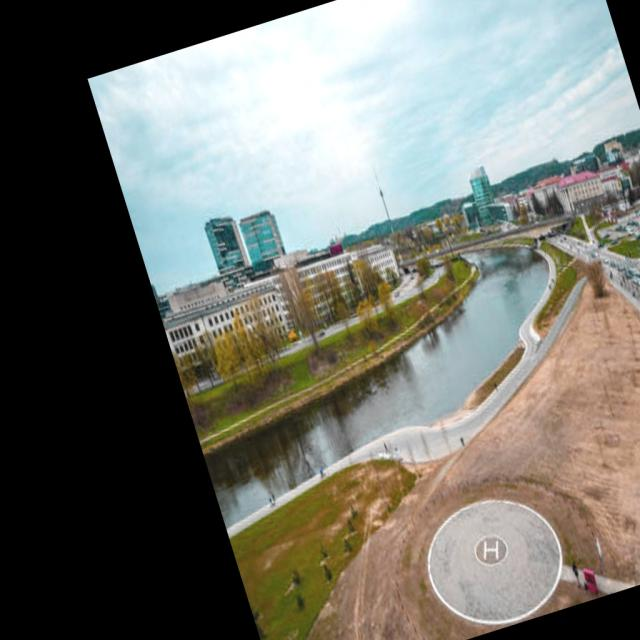helipad: (471, 532, 509, 567)
